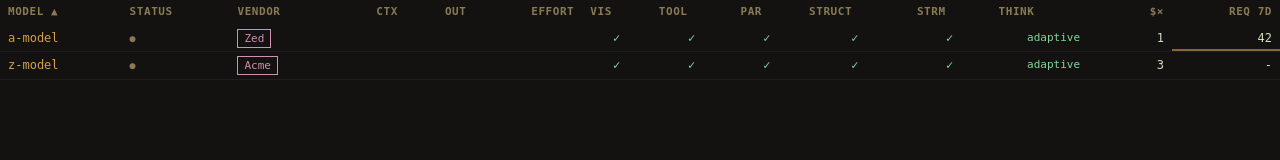
Test case: ModelsTable (TanStack) › string column (Vendor) sorts ASC first
Step 1. Click the button "Vendor" → (259, 12), box [238,4,280,20]
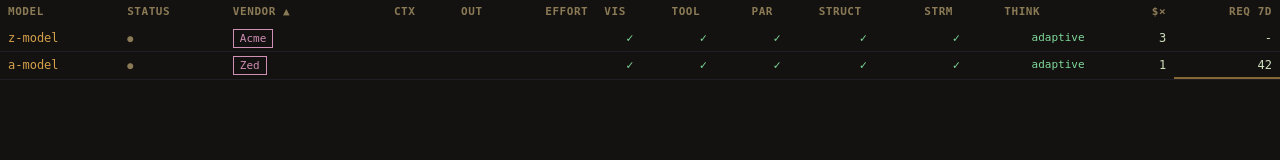
Check: the button "z-model" is shown, box [8,29,59,47]
